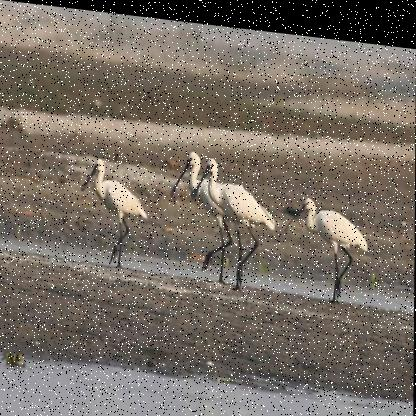Burung: (194, 149, 277, 280), (287, 184, 372, 296), (81, 152, 152, 269), (172, 144, 234, 270)
